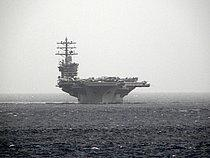MIL_Ship: (52, 35, 151, 104)
